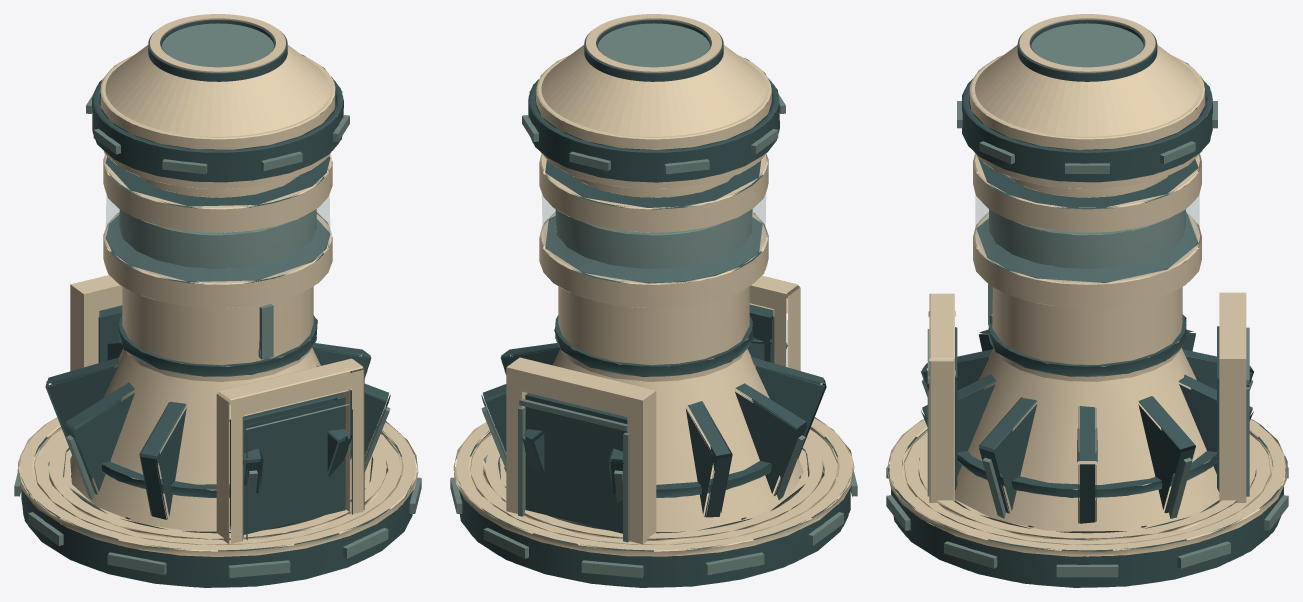
File: Cannon_T1.glb
3 renders of one model, left to right at view 1: azimuth 30°, elevation 25°; view 2: azimuth 150°, elevation 25°; view 3: azimuth 270°, elevation 25°, orthographic.
Parts seen in each view (by area): view 1: Cannon_T1; view 2: Cannon_T1; view 3: Cannon_T1.
Boxes of the visible parts, x1,y1,x2,y2 form: Cannon_T1: (14, 14, 421, 587); Cannon_T1: (450, 14, 857, 587); Cannon_T1: (886, 14, 1288, 587).
Bounding box in the file's own units: 3.58 × 4.53 × 3.57.
